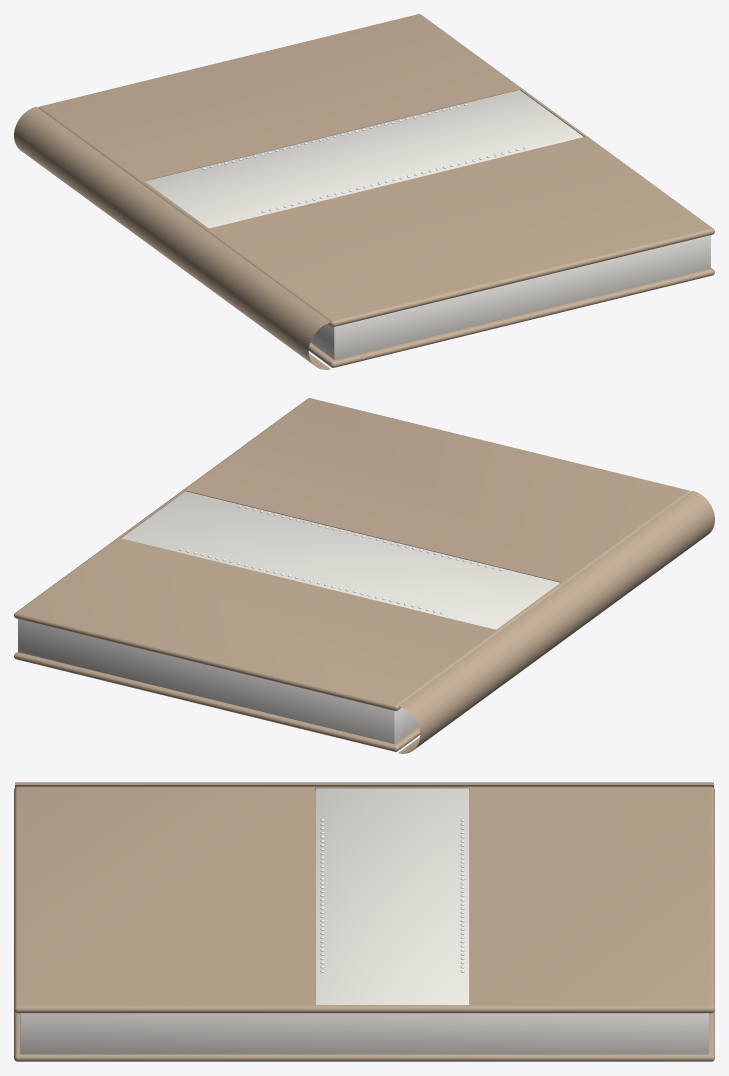
File: fascia-ornament--portrait.glb
The picture shows the model from 3 angles, top to bottom: view 1: azimuth 30°, elevation 25°; view 2: azimuth 150°, elevation 25°; view 3: azimuth 270°, elevation 25°; orthographic projection. The views are drawn at different scales.
Visible parts, largest first — view 1: CoverFront, Band, Spine, Pages, CoverBack; view 2: CoverFront, Band, Spine, Pages, CoverBack; view 3: CoverFront, Band, Pages, CoverBack, Spine, Crystal.001, Crystal.
Boxes of the visible parts, <box> form: CoverFront: <box>38,14,714,326</box>; Band: <box>145,90,583,228</box>; Spine: <box>14,106,330,369</box>; Pages: <box>310,235,710,359</box>; CoverBack: <box>308,268,714,367</box>; CoverFront: <box>14,398,690,710</box>; Band: <box>121,491,560,629</box>; Spine: <box>398,490,714,753</box>; Pages: <box>18,619,418,743</box>; CoverBack: <box>14,652,420,751</box>; CoverFront: <box>14,786,714,1013</box>; Band: <box>316,788,469,1004</box>; Pages: <box>20,1013,708,1054</box>; CoverBack: <box>14,1011,714,1061</box>; Spine: <box>15,782,713,787</box>; Crystal.001: <box>320,819,324,972</box>; Crystal: <box>460,819,464,972</box>.
Bounding box in the file's own units: 0.3179 × 0.0361 × 0.4.
